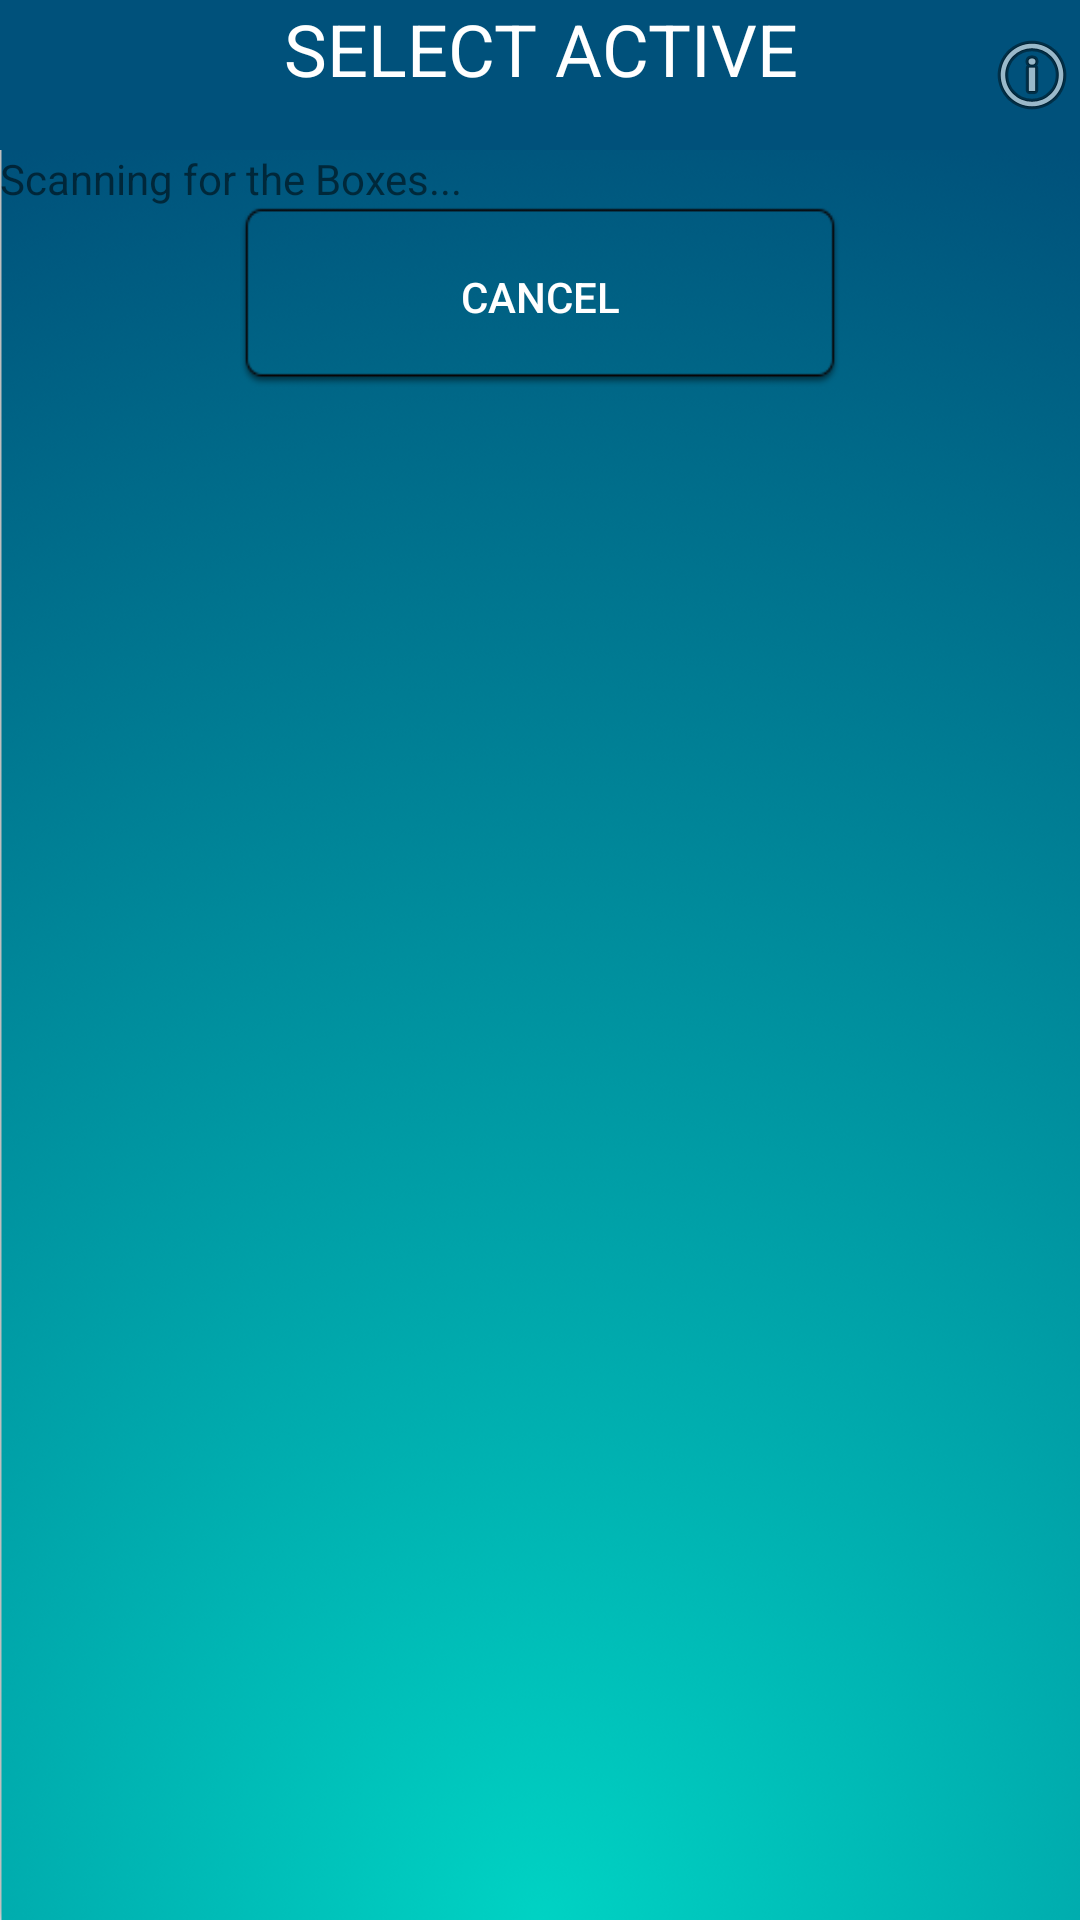

Where icons sit on this 1080*1920 app screen, as (x1, y1, x2, y2):
info details: (998, 41, 1066, 109)
